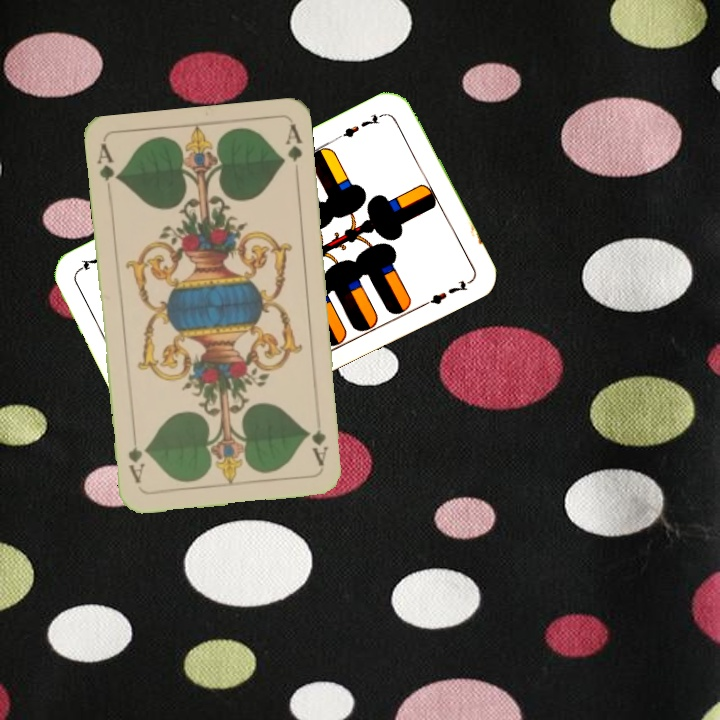E7: (333, 108, 389, 142)
GA: (307, 411, 331, 468), (93, 140, 122, 184)
